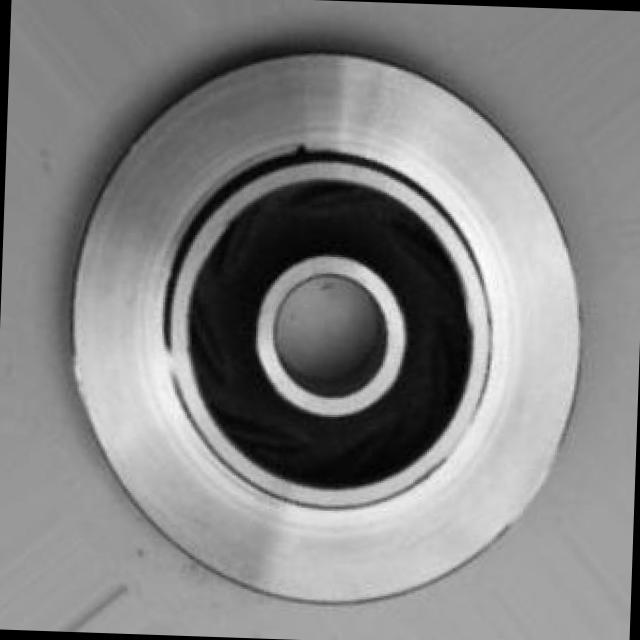Defect: (286, 136, 316, 166)
